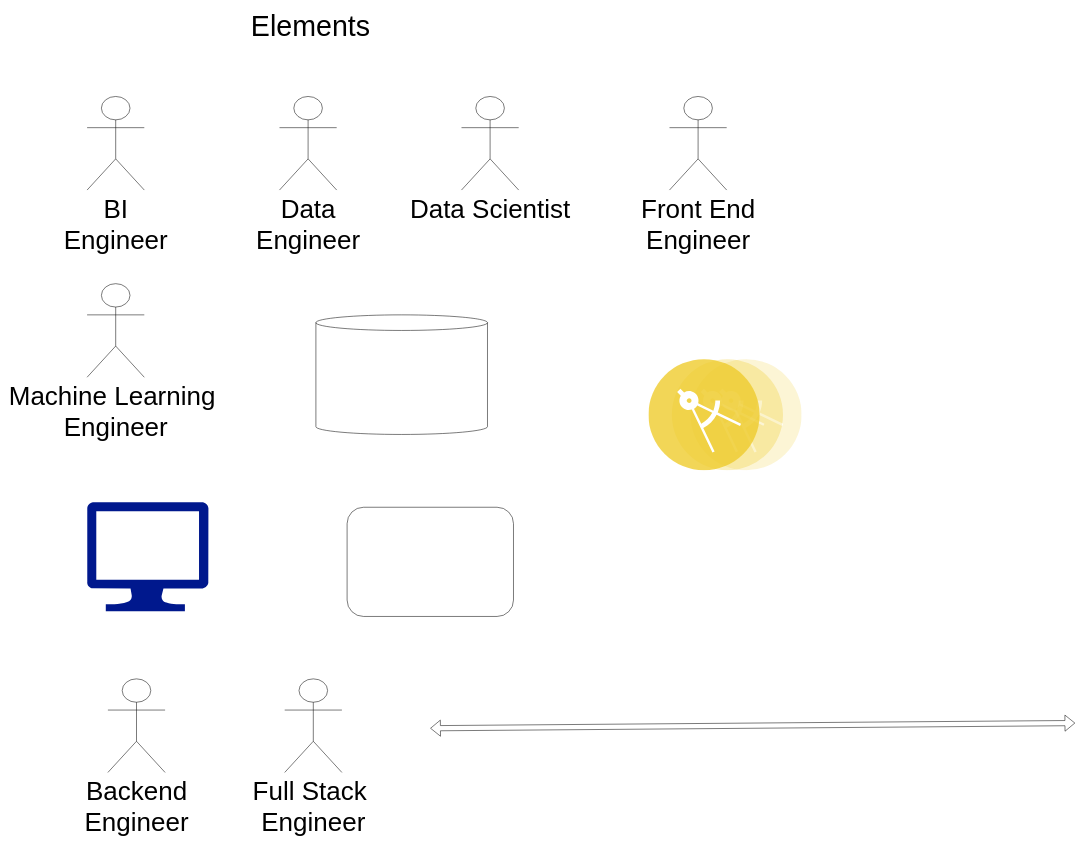
Image size: 1084x847. Some labels were removed from this diagram. Here are the shapes that lost their labels. From the top down, the centre of each, then its label:
point (401, 374): Database
point (725, 415): Micro Services
point (147, 556): Front End (Browser)
point (430, 561): Title
